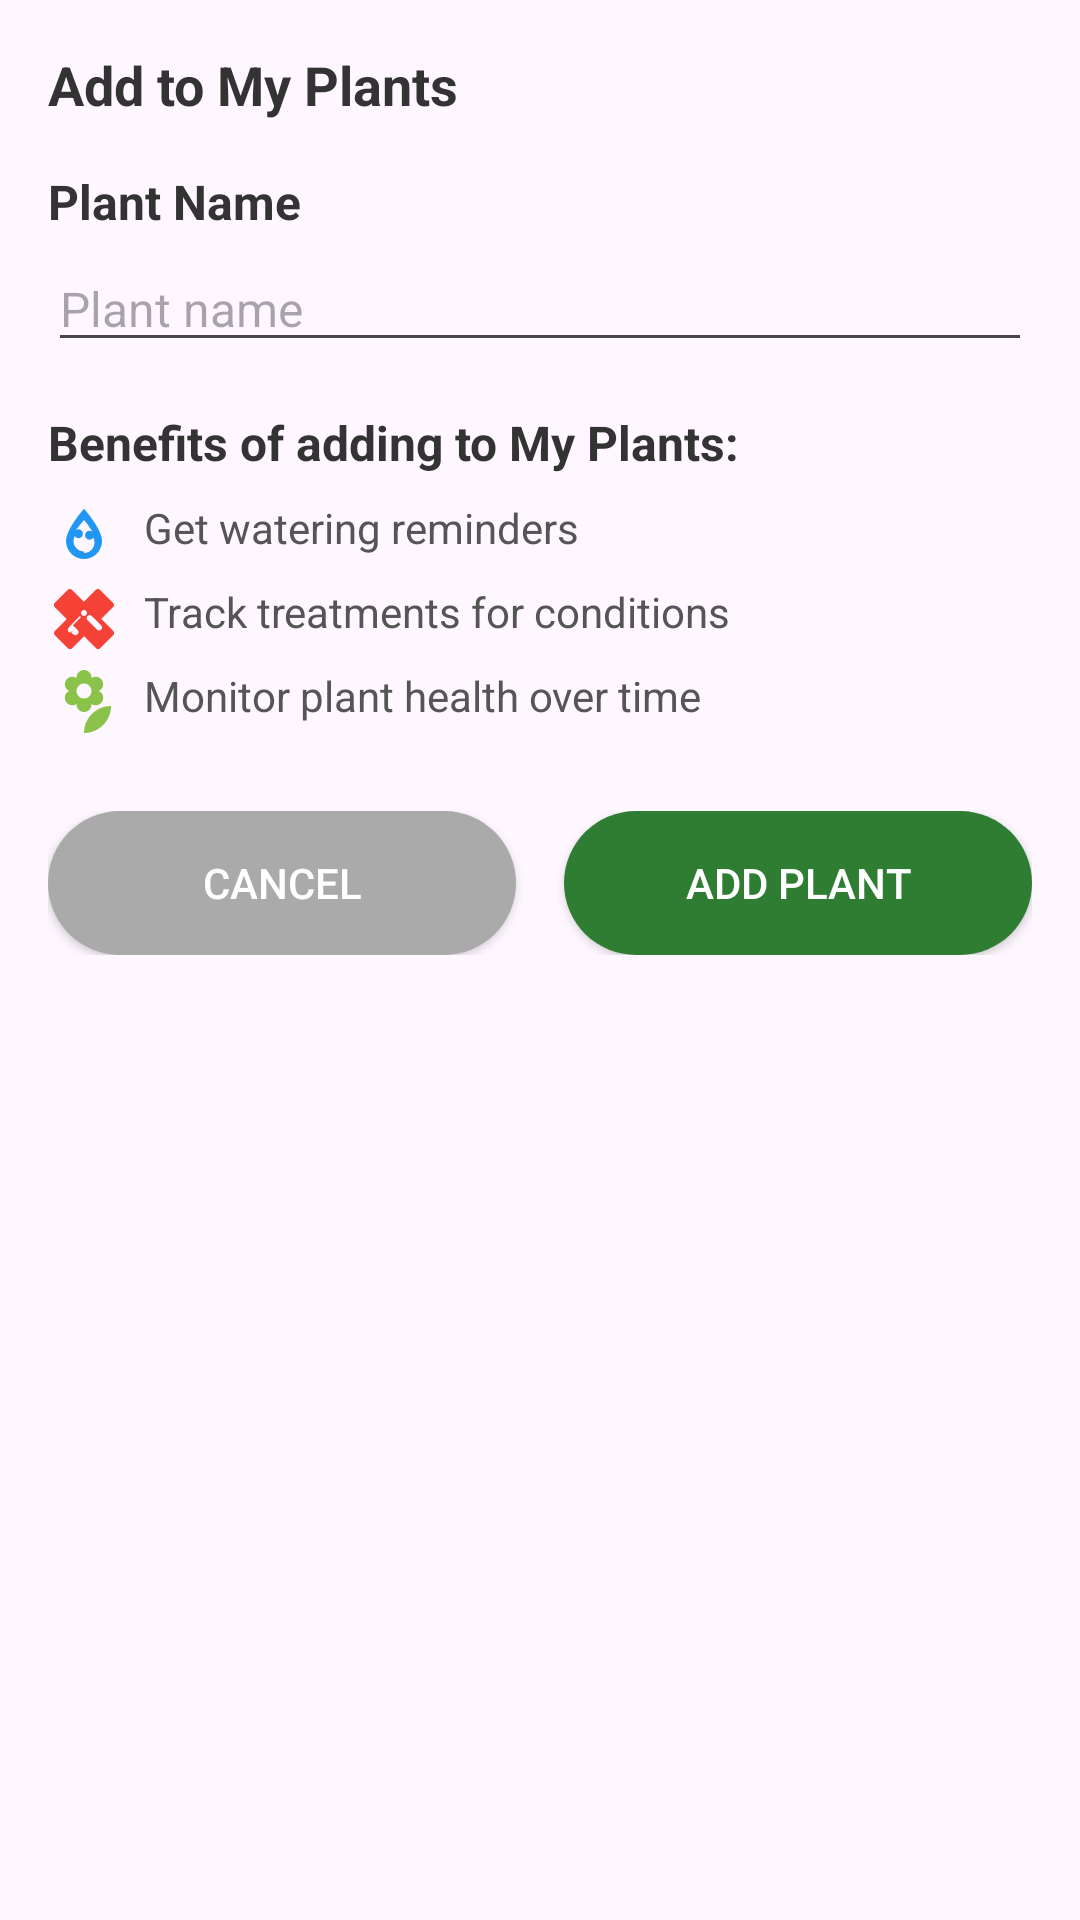

Icon click points for this 1080×1920 phone screenshot, format [x,y]:
plant care: [87,701]
